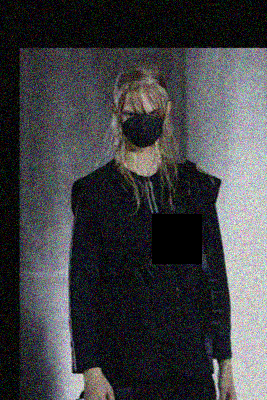with_mask: (119, 104, 167, 147)
